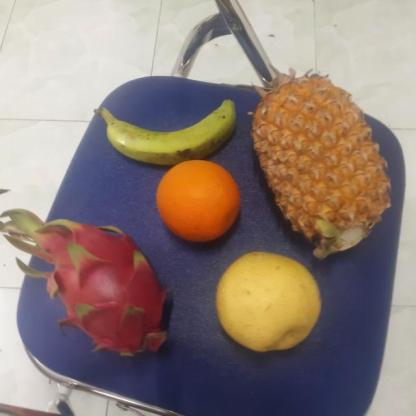annona: (154, 159, 243, 243)
banana: (109, 96, 243, 167)
pear: (218, 251, 328, 353)
pineapple: (254, 76, 391, 257)
pitaya: (42, 224, 181, 358)
